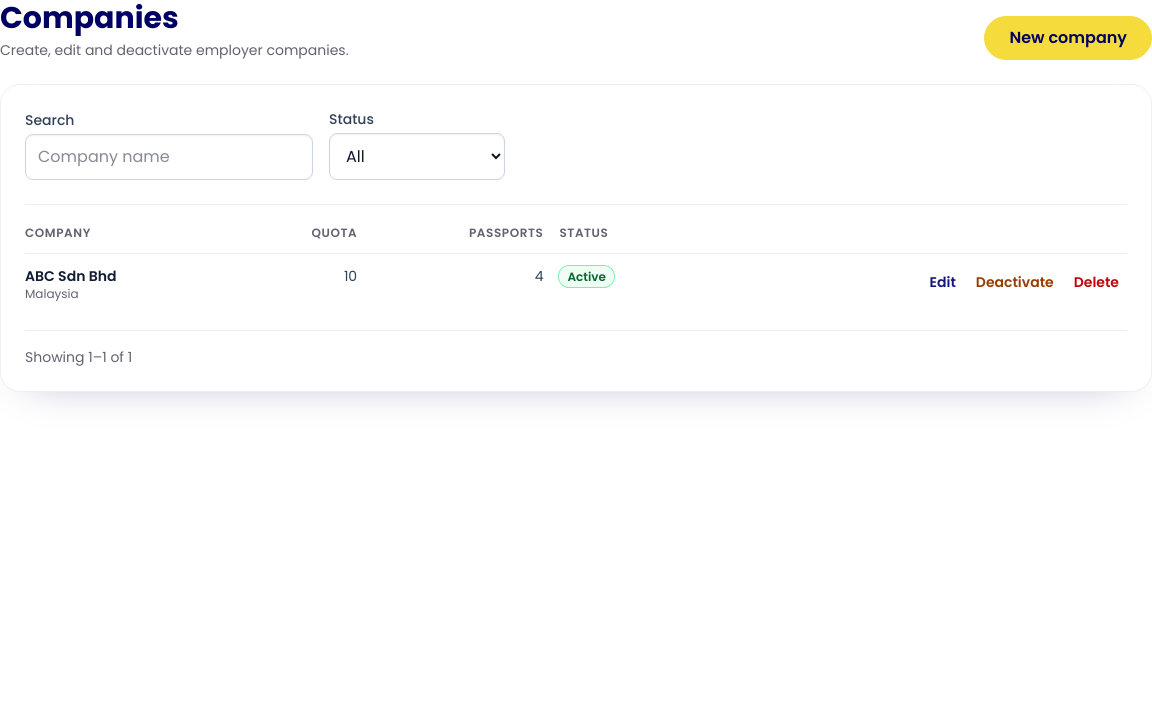
Scenario: Companies (operations head) › requires a valid quota (2.5)
This screenshot has width=1152, height=720.
Click the button "New company" at (1068, 38), box [984,16,1151,60]
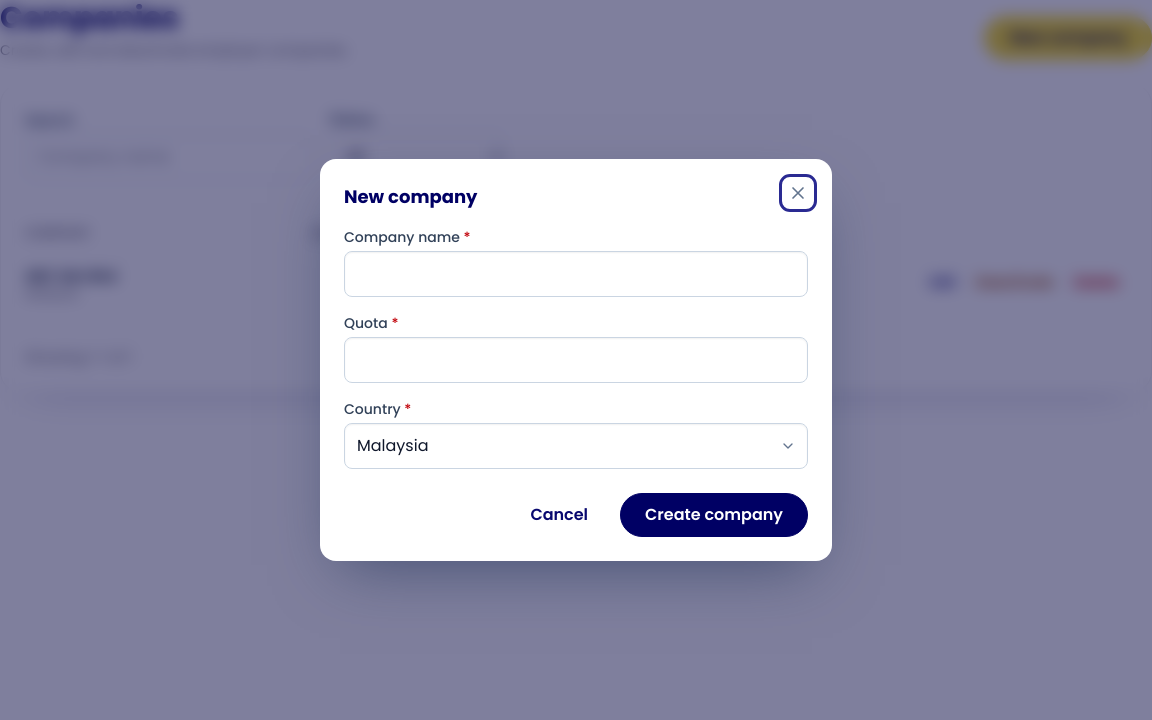
Type "New Co" into the field labelled "Company name *" at (576, 274), box [344,251,808,297]
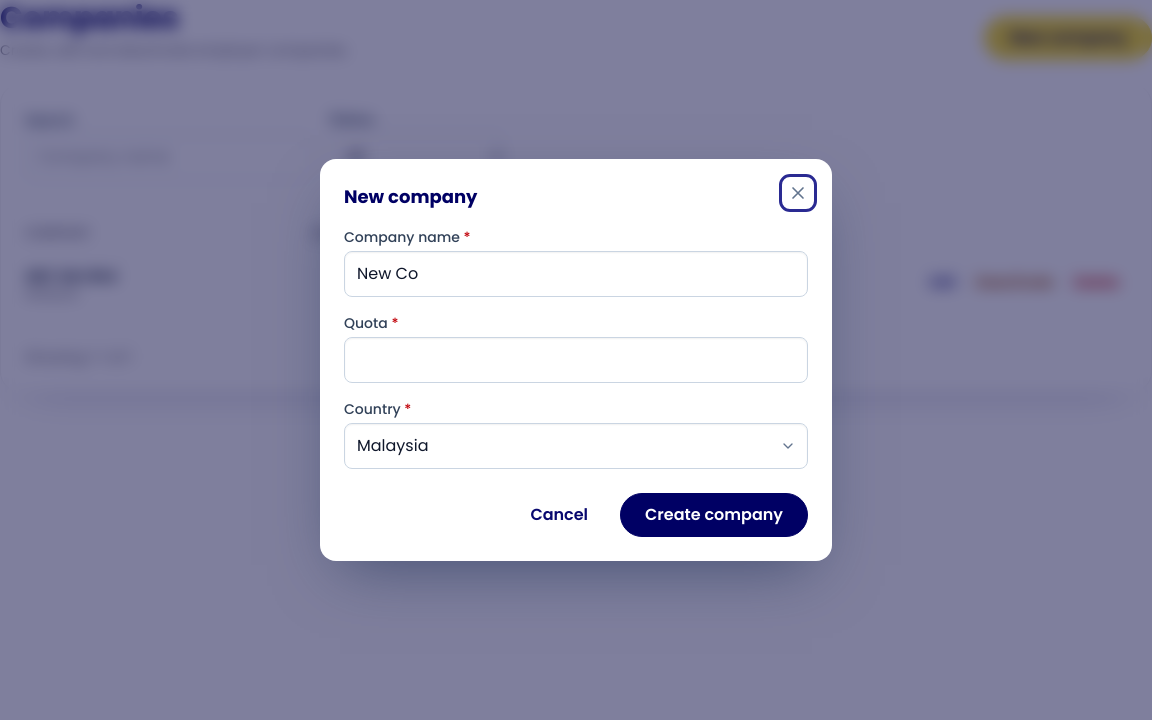
Type "2.5" into the number field labelled "Quota *" at (576, 360), box [344,337,808,383]
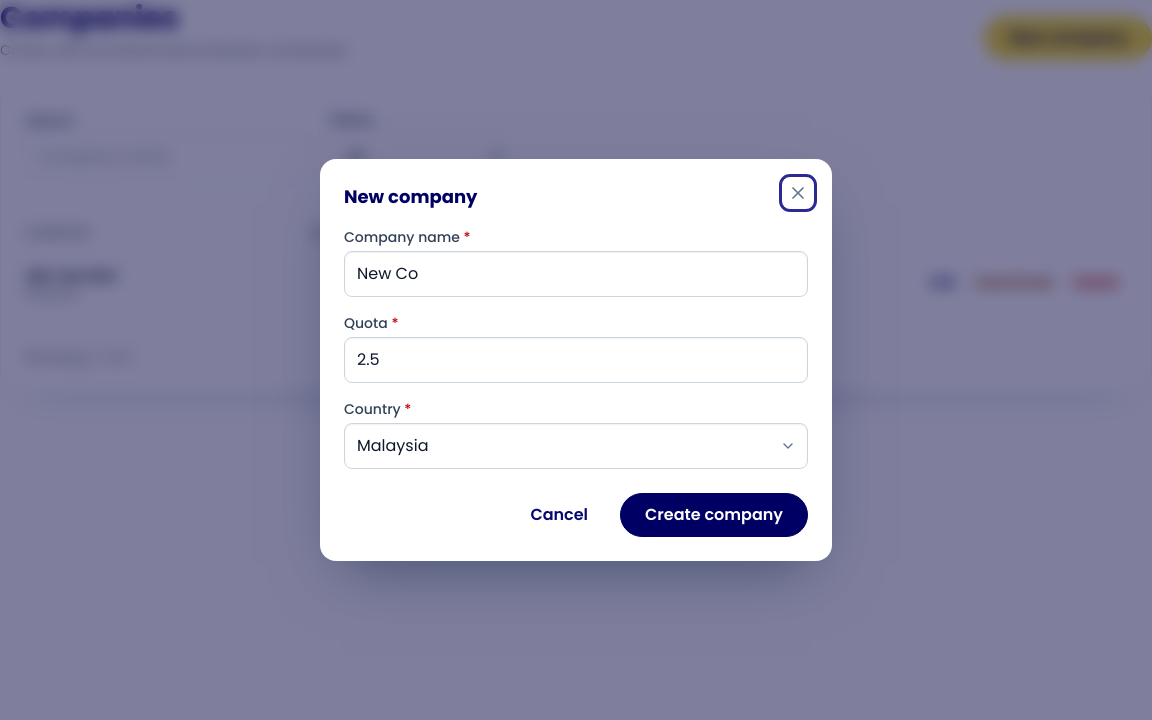
Submit the form, box [344,227,808,537]
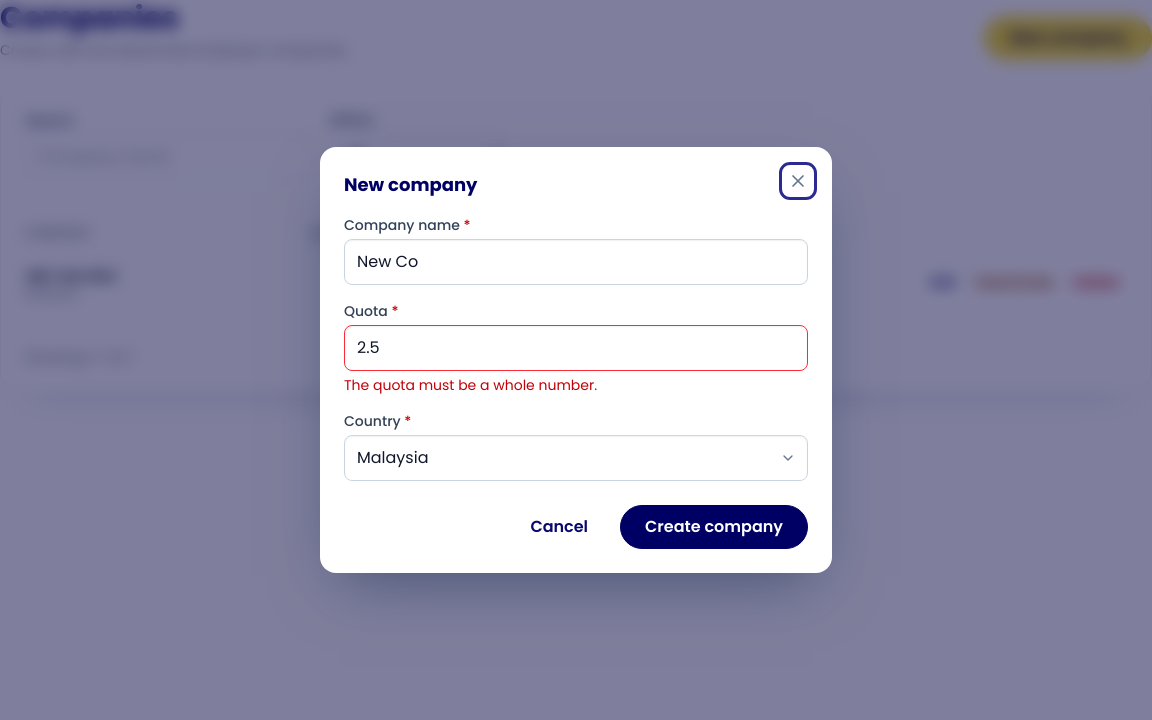
Expected: the element showing "Quota * The quota must be a whole number." is shown, [344,301,808,395]
